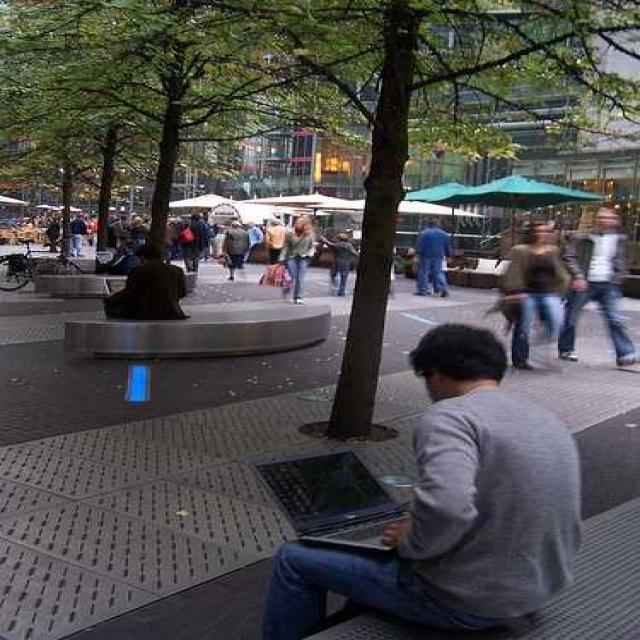laptop: (267, 446, 445, 579)
